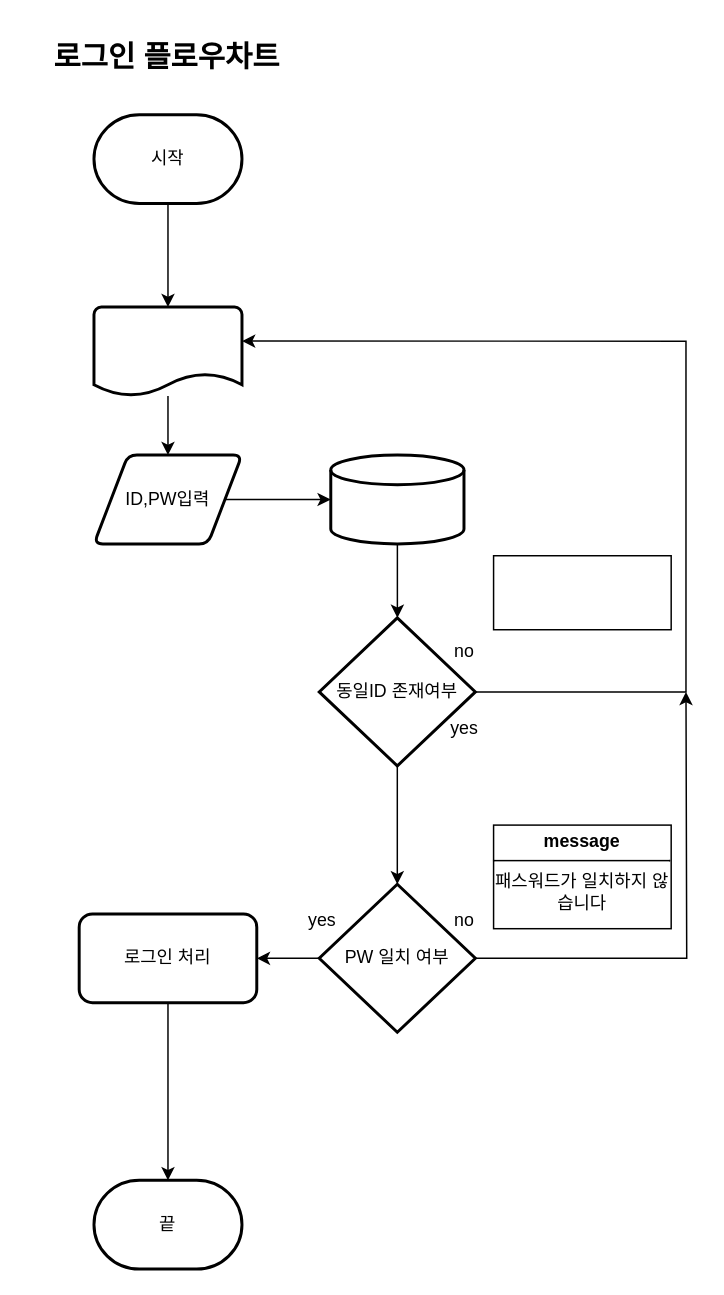
Some shapes in this 724 by 1295 pixel diagram are drawn without their labels. Each missing label, with the centre of its shape:
"message 동일한ID가 없습니다" goes at [581,592].
"tbl_user" goes at [397,499].
"로그인 페이지" goes at [167,351].
